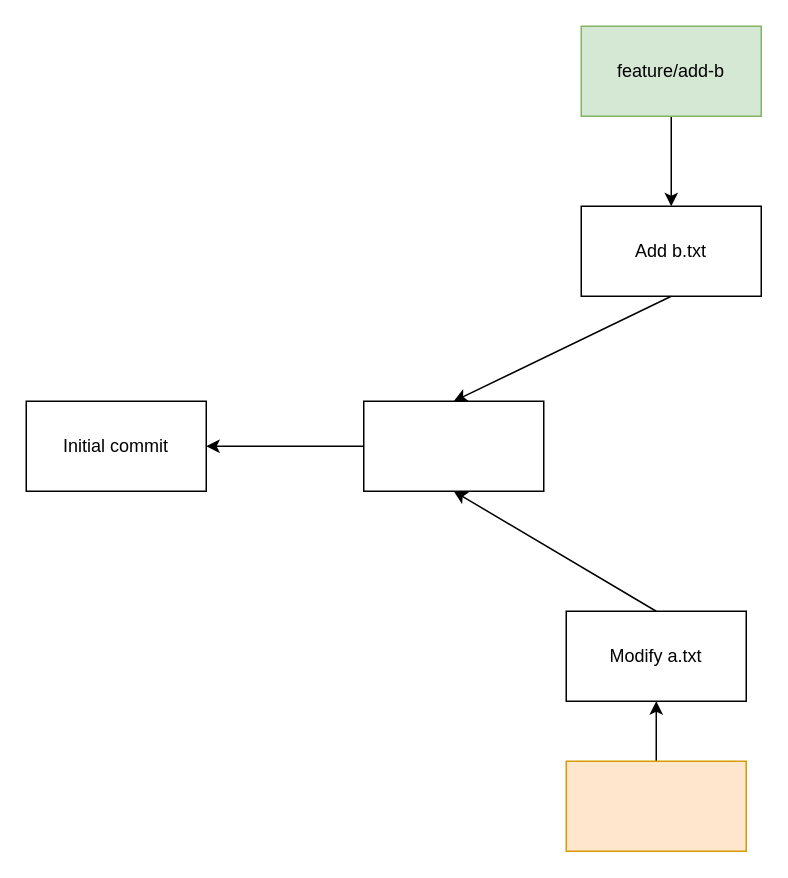
Some shapes in this 788 by 878 pixel diagram are drawn without their labels. Here are the shapes that lost their labels. From the top down, the centre of each, then its label:
the point at 453,445: Add a.txt
the point at 655,805: master
